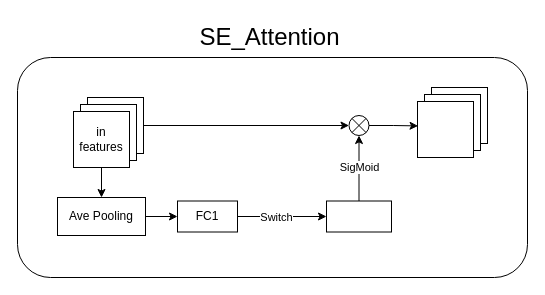
Image size: 545x295. Some labels were removed from this diagram. Each missing label, with the box of its shape:
FC2: (326, 200, 392, 232)
out features: (416, 100, 474, 158)
